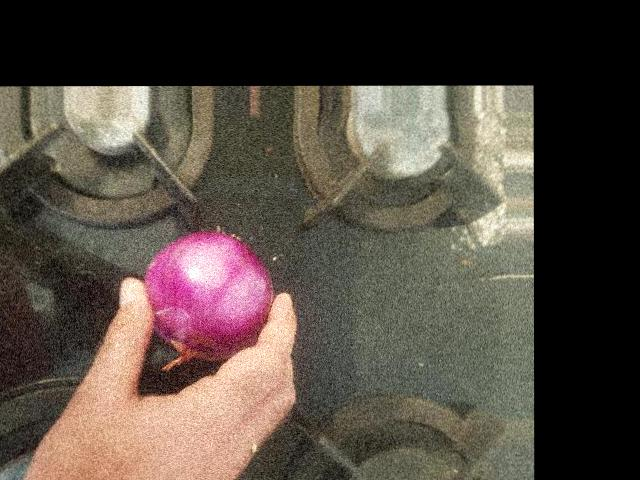onion: (267, 158, 379, 293)
